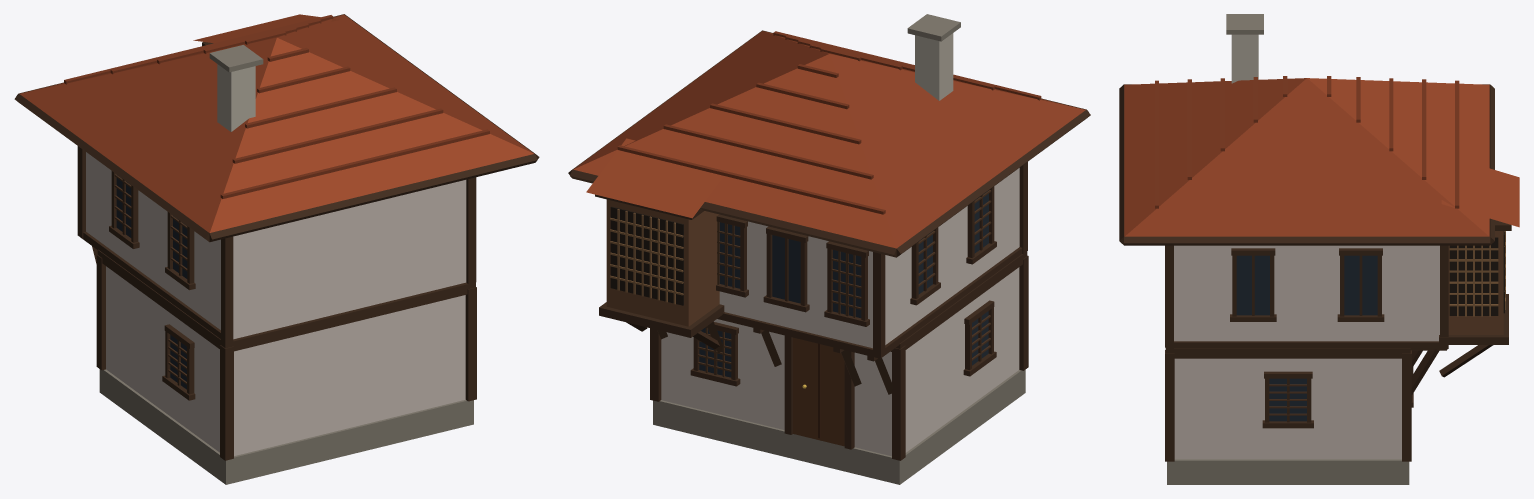
3 views of the same model, side by side, from view 1: azimuth 30°, elevation 25°; view 2: azimuth 150°, elevation 25°; view 3: azimuth 270°, elevation 25° (orthographic). The views are drawn at different scales.
Parts seen in each view (by area): view 1: ev; view 2: ev; view 3: ev.
Boxes of the visible parts, x1,y1,x2,y2 form: ev: (14, 14, 539, 484); ev: (568, 14, 1090, 484); ev: (1119, 14, 1519, 484).
Bounding box in the file's own units: 6.88 × 7.6 × 7.44.
